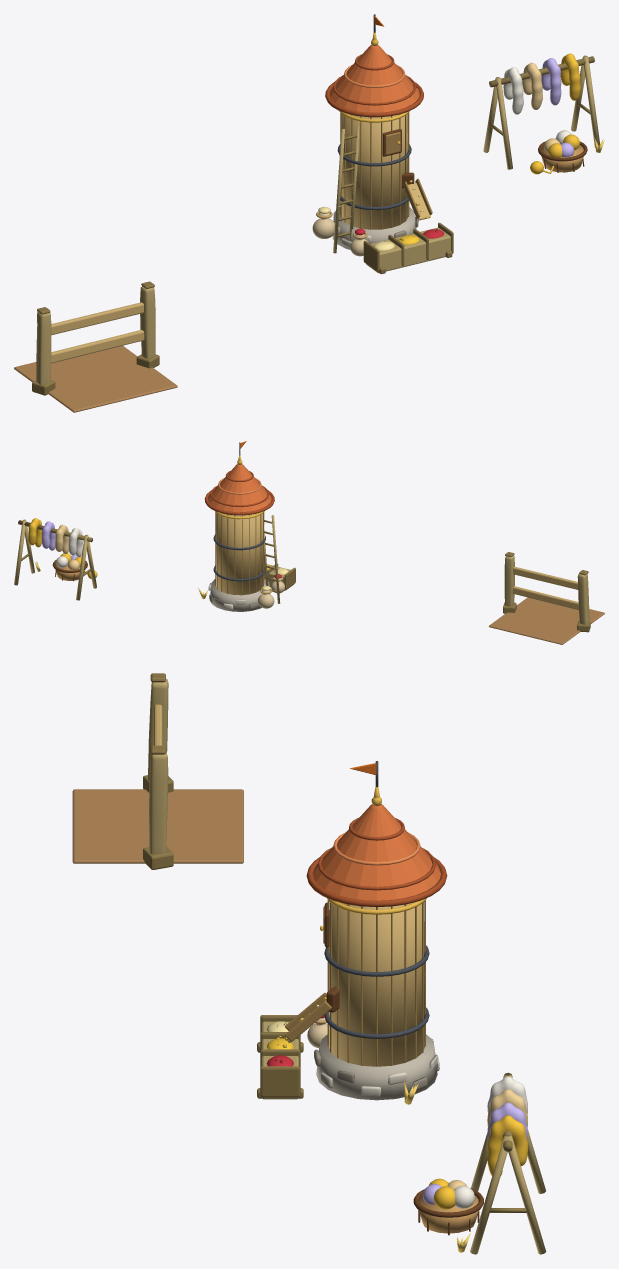
Rendered from enclos6.glb.
3 views of the same model, one above another, from view 1: azimuth 30°, elevation 25°; view 2: azimuth 150°, elevation 25°; view 3: azimuth 270°, elevation 25° (orthographic). The views are drawn at different scales.
Visible parts, largest first — view 1: terre_battue, douelles, toit, lisse, piquet, jambe, joint, auge, socle, echelle, cloison, bord_toit (+7 smaller); view 2: douelles, terre_battue, toit, joint, lisse, piquet, jambe, socle, echelle, cercle, bord_toit, echeveau (+3 smaller); view 3: douelles, terre_battue, toit, socle, joint, jambe, piquet, cloison, cercle, bord_toit, echeveau.003, panier (+2 smaller).
Part boxes in pixels (x1=…): terre_battue: x1=14, y1=345, x2=177, y2=412; douelles: x1=341, y1=114, x2=408, y2=229; toit: x1=329, y1=44, x2=419, y2=112; lisse: x1=51, y1=302, x2=144, y2=363; piquet: x1=36, y1=286, x2=155, y2=384; jambe: x1=483, y1=55, x2=599, y2=169; joint: x1=340, y1=112, x2=409, y2=229; auge: x1=366, y1=227, x2=450, y2=272; socle: x1=332, y1=207, x2=416, y2=249; echelle: x1=333, y1=125, x2=358, y2=253; cloison: x1=363, y1=222, x2=453, y2=271; bord_toit: x1=325, y1=82, x2=423, y2=117; douelles: x1=216, y1=513, x2=263, y2=595; terre_battue: x1=489, y1=597, x2=604, y2=644; toit: x1=208, y1=464, x2=271, y2=512; joint: x1=215, y1=512, x2=264, y2=595; lisse: x1=512, y1=566, x2=578, y2=609; piquet: x1=504, y1=555, x2=589, y2=624; jambe: x1=14, y1=519, x2=96, y2=600; socle: x1=209, y1=579, x2=268, y2=611; echelle: x1=264, y1=515, x2=280, y2=603; cercle: x1=213, y1=534, x2=265, y2=581; bord_toit: x1=204, y1=490, x2=274, y2=515; echeveau: x1=68, y1=528, x2=83, y2=557; douelles: x1=328, y1=902, x2=424, y2=1066; terre_battue: x1=72, y1=789, x2=243, y2=863; toit: x1=312, y1=804, x2=440, y2=900; socle: x1=316, y1=1034, x2=437, y2=1100; joint: x1=327, y1=899, x2=425, y2=1066; jambe: x1=470, y1=1074, x2=546, y2=1254; piquet: x1=148, y1=679, x2=168, y2=854; cloison: x1=260, y1=1015, x2=300, y2=1097; cercle: x1=324, y1=945, x2=429, y2=1038; bord_toit: x1=306, y1=857, x2=447, y2=907; echeveau.003: x1=487, y1=1115, x2=527, y2=1175; panier: x1=419, y1=1195, x2=478, y2=1233.
Bounding box in the file's own units: 7.18 × 2.23 × 3.04.
